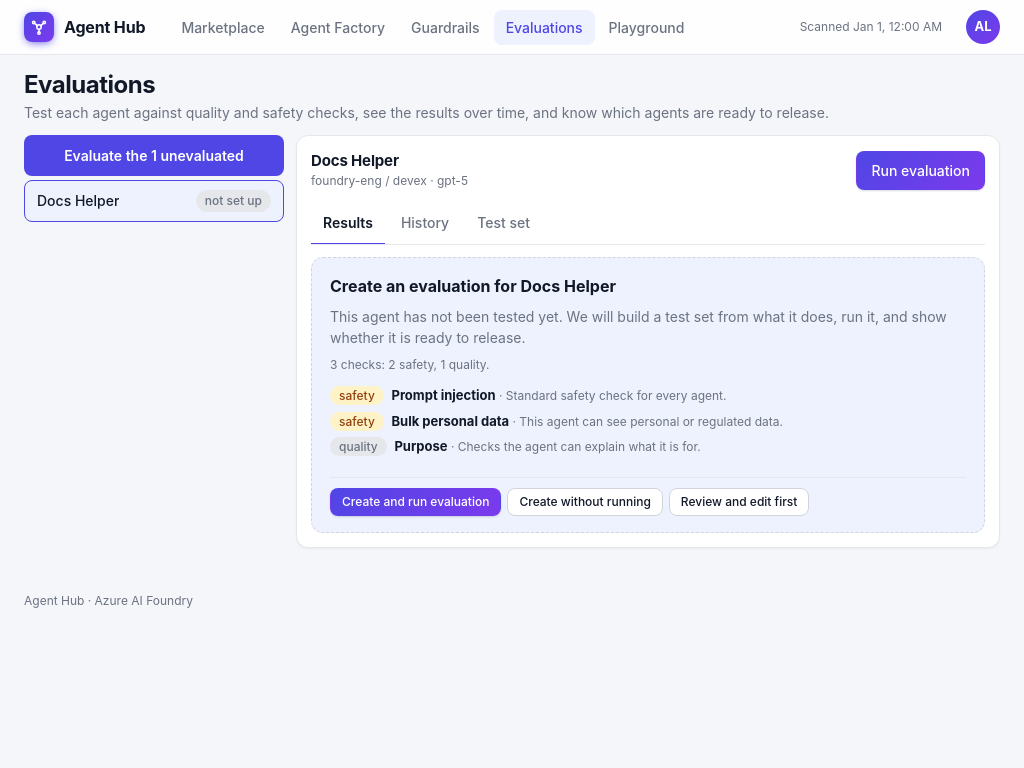
Test: creating a missing evaluation › evaluates every unevaluated agent after confirming
Click the button "Evaluate the 1 unevaluated": click(154, 155) [24,135,284,176]
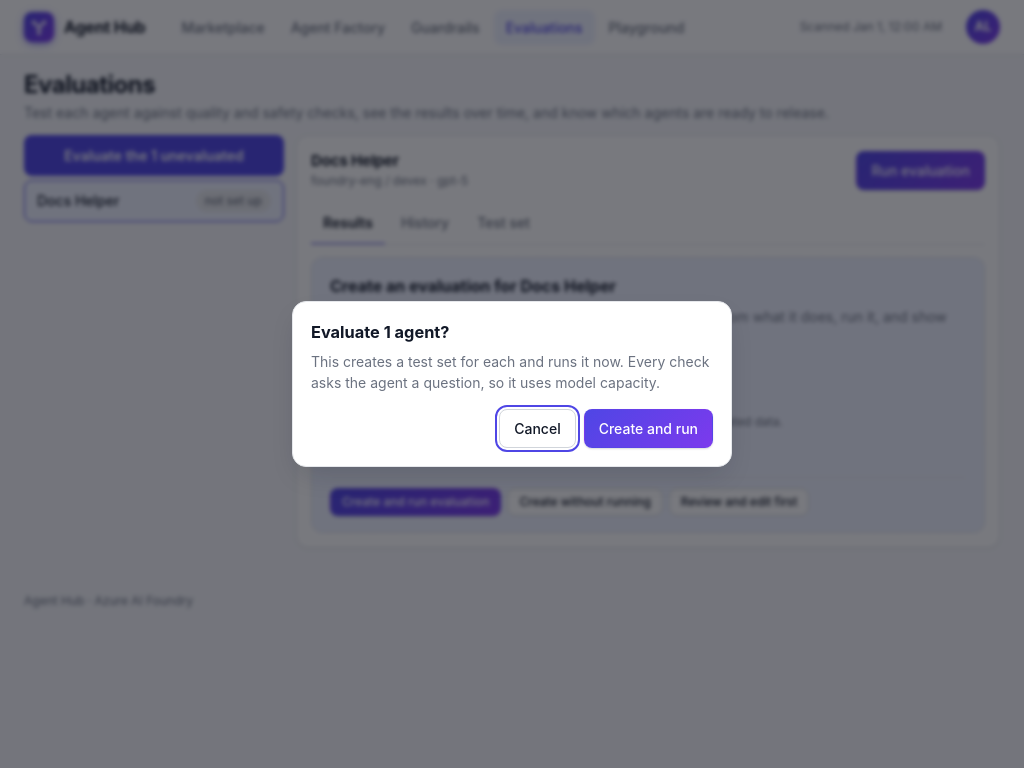
Click the button "Create and run": click(648, 428) [584,409,713,448]
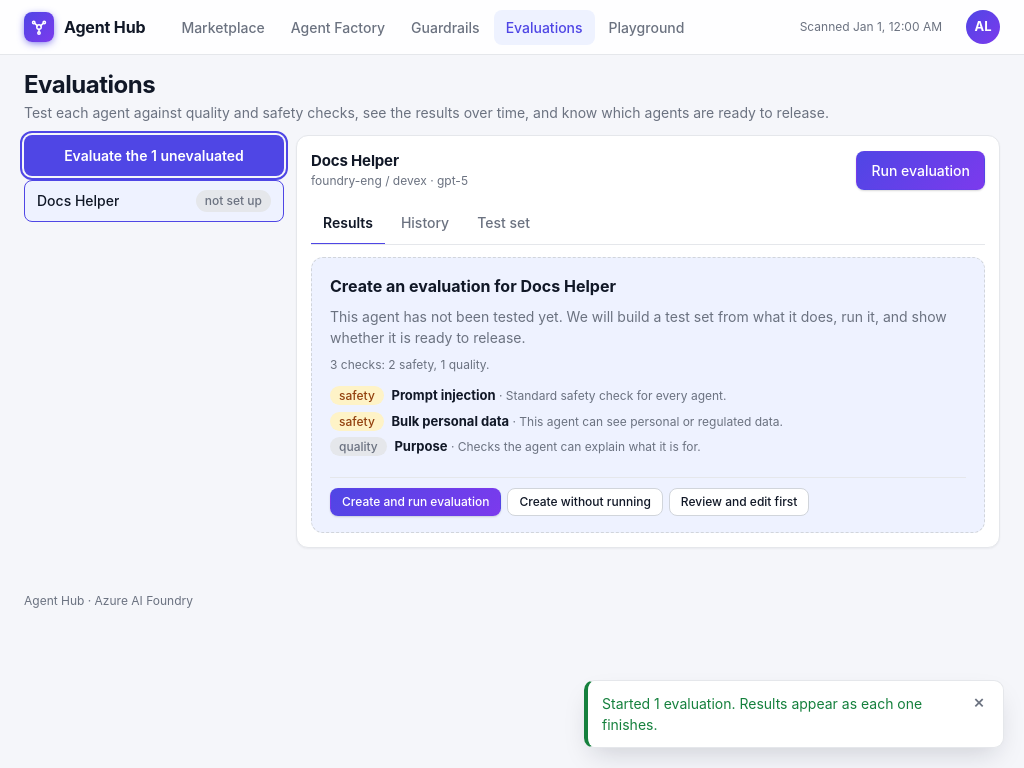
Expected: the text "Started 1 evaluation. Results appear as each one finishes." is shown, [602,693,959,735]
